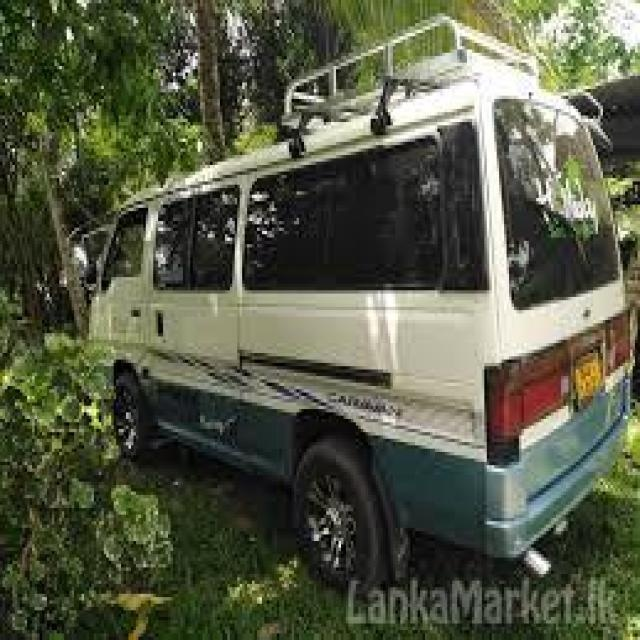Van: (79, 49, 640, 570)
